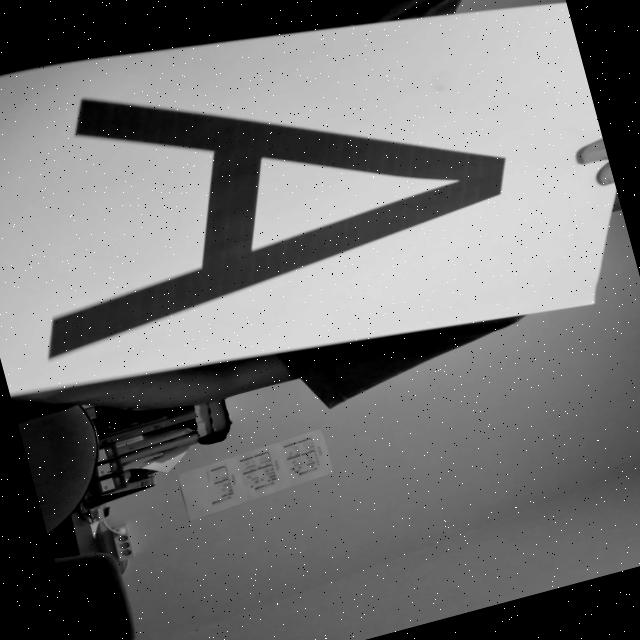a: (0, 0, 564, 383)
